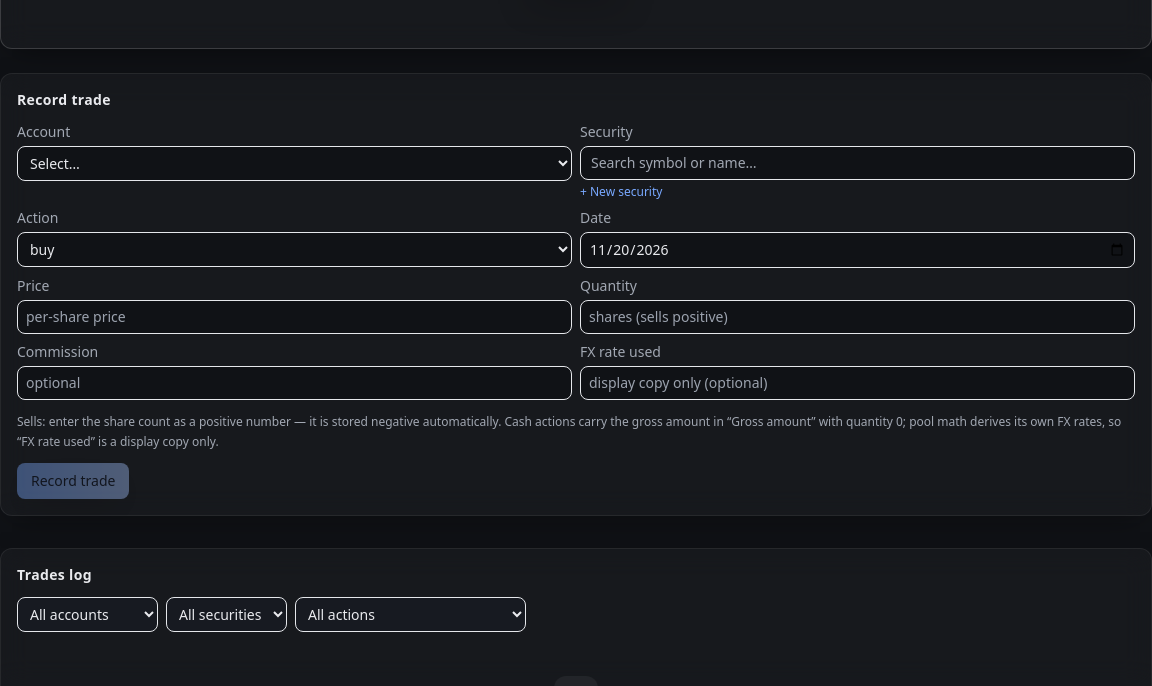
Test: watchlist ticker search — the market lookup fallback (M186) › 7. the trade-form picker stays local-only
(page scrolled)
Type "zzzz" into the dropdown with placeholder "Search symbol or name…".
click(858, 163); type("zzzz")  # box [580, 146, 1135, 180]
(page scrolled)
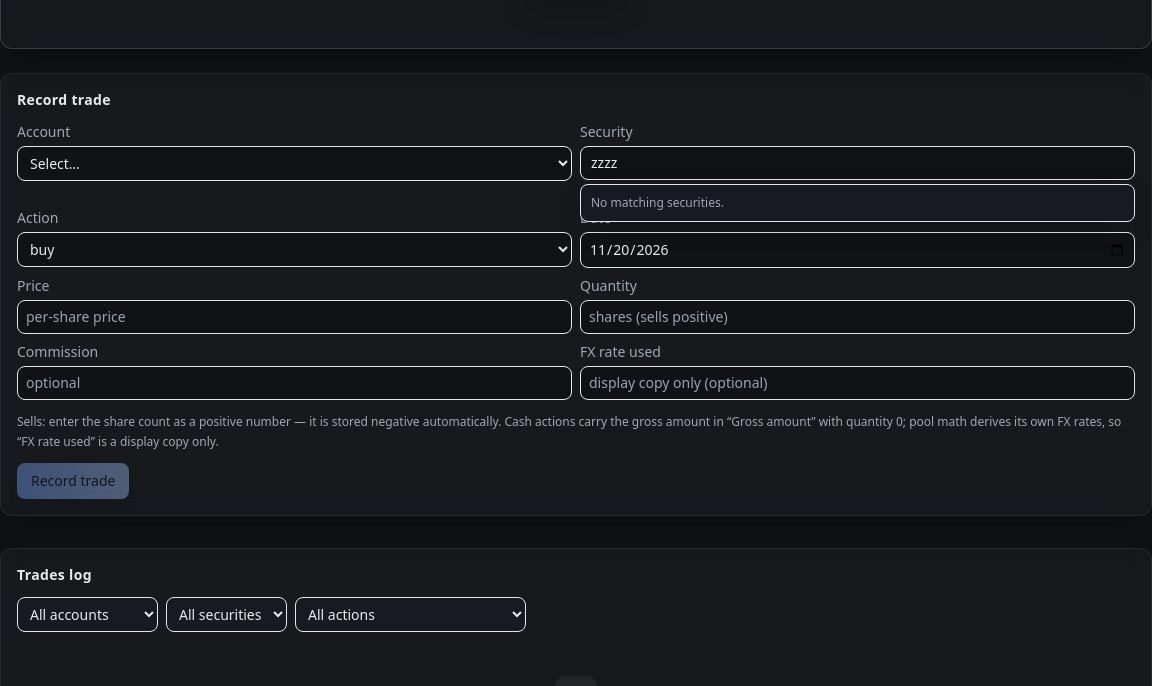
Now the list item with test id "security-no-match" reads "No matching securities.", box [591, 194, 724, 211]
